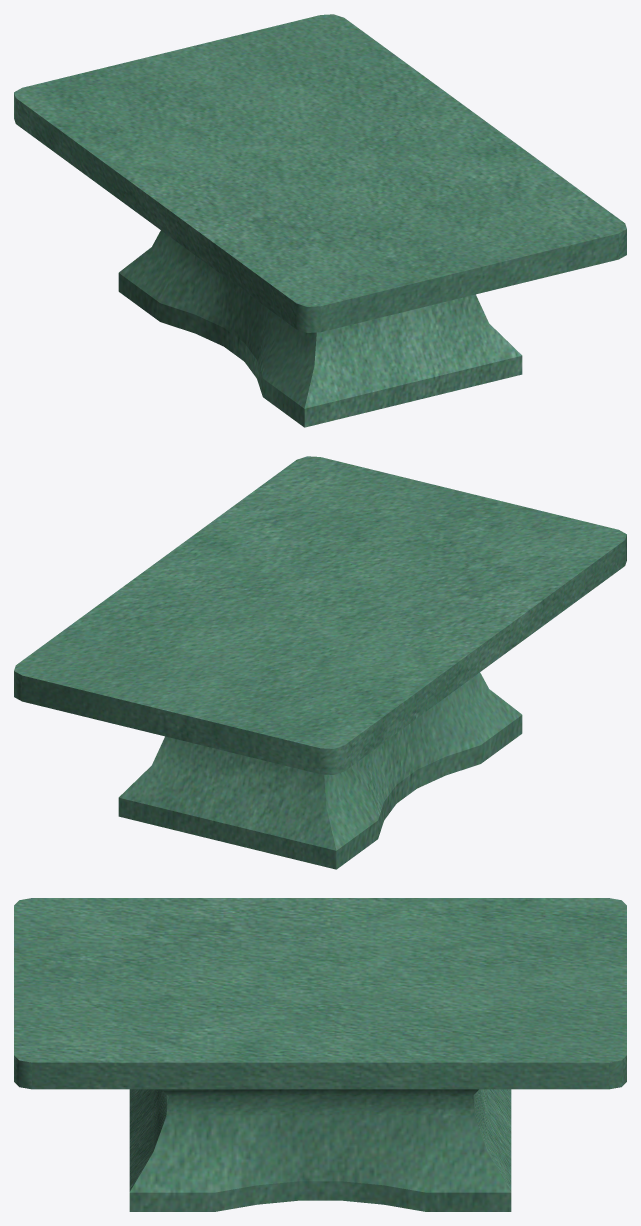
Rendered from Table_Anvil.fbx.
The picture shows the model from 3 angles, top to bottom: view 1: azimuth 30°, elevation 25°; view 2: azimuth 150°, elevation 25°; view 3: azimuth 270°, elevation 25°; orthographic projection. The views are drawn at different scales.
Parts seen in each view (by area): view 1: Table_Anvil; view 2: Table_Anvil; view 3: Table_Anvil.
Boxes of the visible parts, x1,y1,x2,y2 form: Table_Anvil: [14, 14, 626, 427]; Table_Anvil: [14, 456, 626, 869]; Table_Anvil: [14, 898, 626, 1211].
Bounding box in the file's own units: 62.24 × 31.21 × 97.94.
